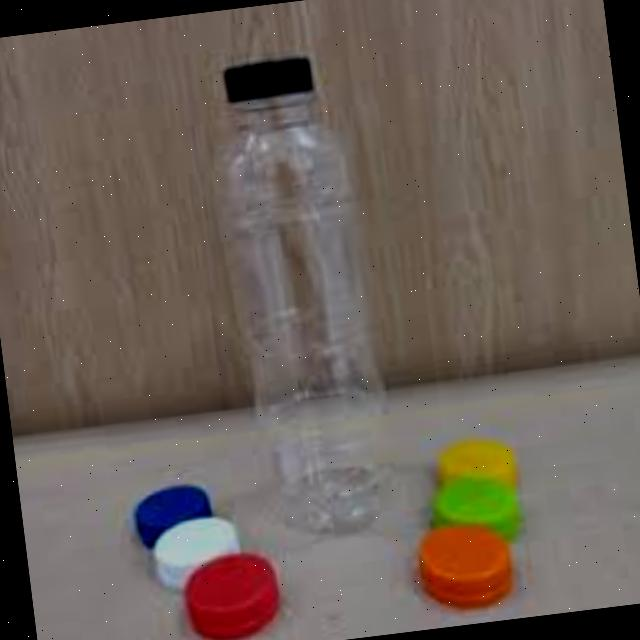trash: (186, 41, 414, 552)
